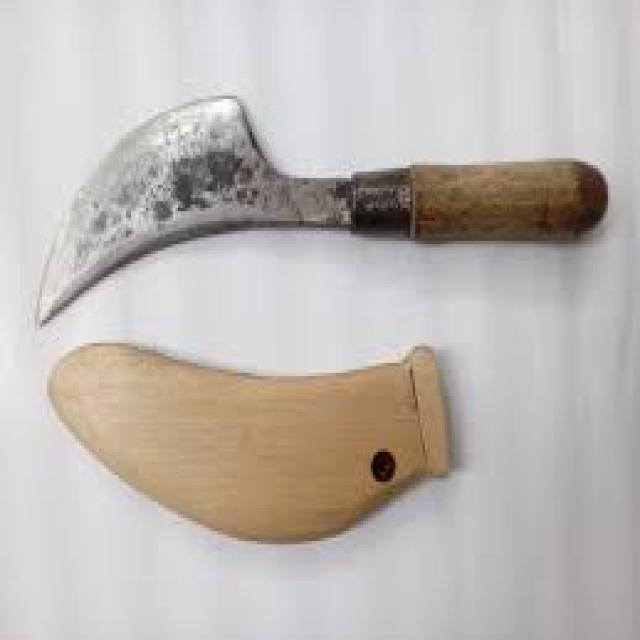Knife: (37, 96, 608, 323)
